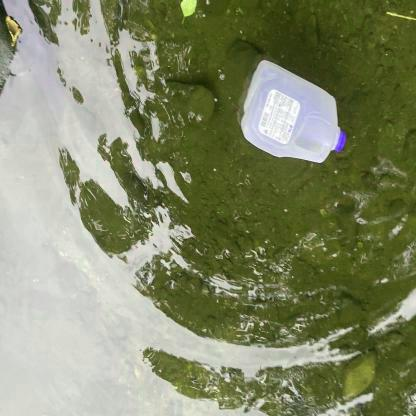Plastic: (234, 55, 351, 168)
